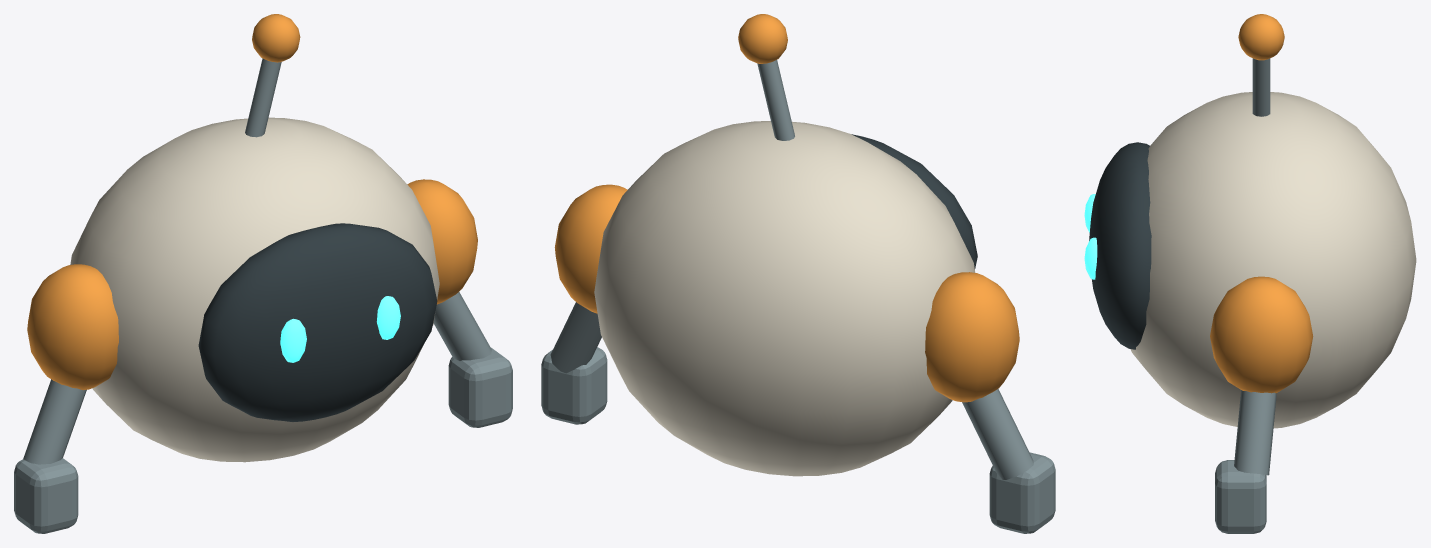
The model's file is repair-robot.glb.
3 views of the same model, side by side, from view 1: azimuth 30°, elevation 25°; view 2: azimuth 150°, elevation 25°; view 3: azimuth 270°, elevation 25° (orthographic). The views are drawn at different scales.
Parts seen in each view (by area): view 1: repair-robot__ivory, repair-robot__rubber, repair-robot__orange, repair-robot__steel, repair-robot__cyan; view 2: repair-robot__ivory, repair-robot__orange, repair-robot__steel, repair-robot__rubber; view 3: repair-robot__ivory, repair-robot__orange, repair-robot__rubber, repair-robot__steel, repair-robot__cyan.
Part boxes in pixels (left/top/right/bottom): repair-robot__ivory: left=70, top=117, right=439, bottom=462; repair-robot__rubber: left=198, top=223, right=437, bottom=421; repair-robot__orange: left=27, top=14, right=477, bottom=390; repair-robot__steel: left=14, top=58, right=512, bottom=533; repair-robot__cyan: left=280, top=296, right=400, bottom=362; repair-robot__ivory: left=594, top=121, right=975, bottom=476; repair-robot__orange: left=554, top=14, right=1019, bottom=402; repair-robot__steel: left=541, top=60, right=1055, bottom=533; repair-robot__rubber: left=851, top=134, right=977, bottom=268; repair-robot__ivory: left=1130, top=92, right=1416, bottom=428; repair-robot__orange: left=1210, top=14, right=1313, bottom=393; repair-robot__rubber: left=1089, top=142, right=1151, bottom=349; repair-robot__steel: left=1215, top=58, right=1276, bottom=533; repair-robot__cyan: left=1084, top=194, right=1097, bottom=279.
Bounding box in the file's own units: 1.03 × 0.9 × 0.643.
